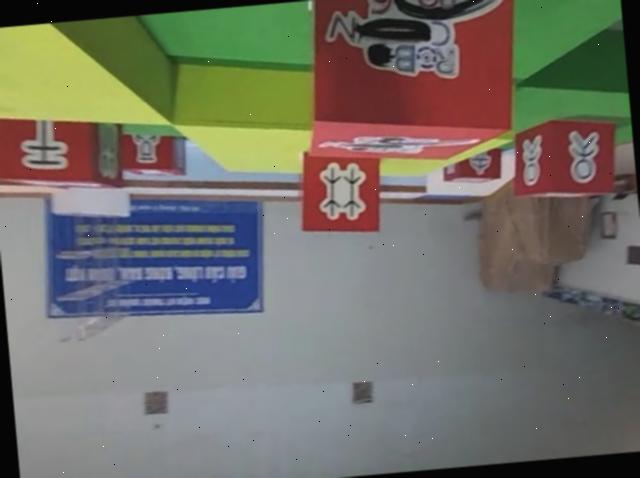R1: (295, 0, 536, 175)
R2 Fake: (0, 96, 129, 200)
R2 Real: (506, 113, 623, 207), (292, 139, 388, 241), (112, 122, 191, 185)
